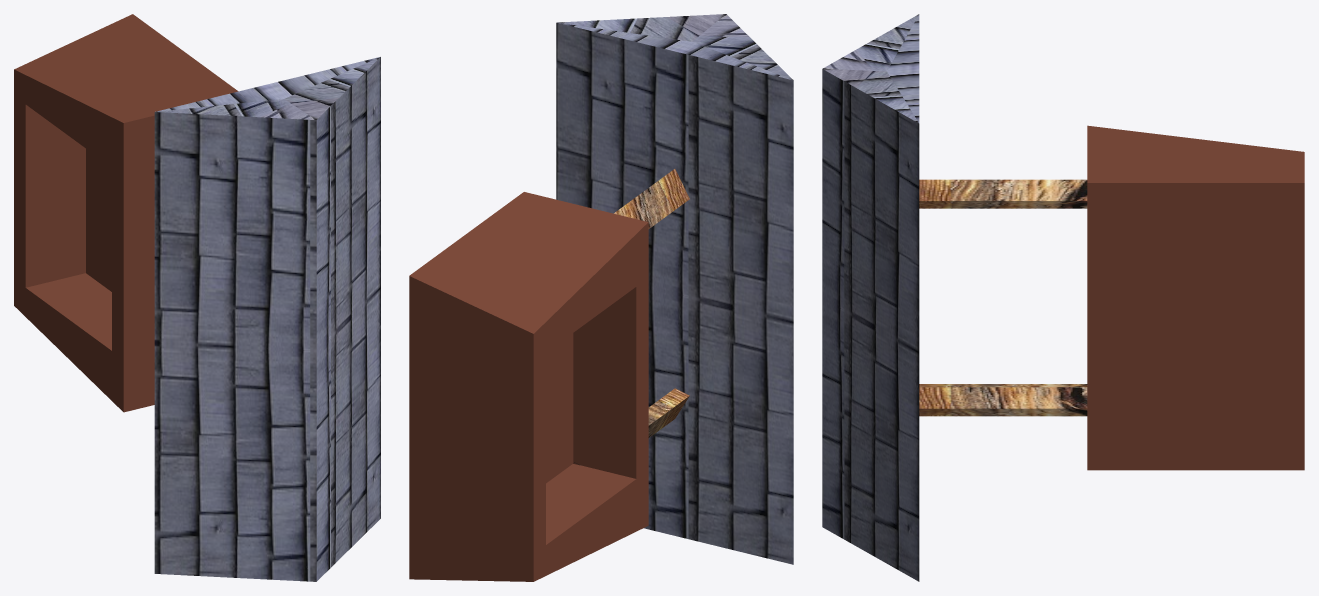
The model's file is stall updatefbx.fbx.
3 renders of one model, left to right at view 1: azimuth 30°, elevation 25°; view 2: azimuth 150°, elevation 25°; view 3: azimuth 270°, elevation 25°, orthographic. The views are drawn at different scales.
Visible parts, largest first — view 1: Cube.005; view 2: Cube.005; view 3: Cube.005.
Boxes of the visible parts, x1,y1,x2,y2 form: Cube.005: (14,14,380,581); Cube.005: (409,14,793,581); Cube.005: (822,14,1304,581).
Bounding box in the file's own units: 210 × 409 × 391.
